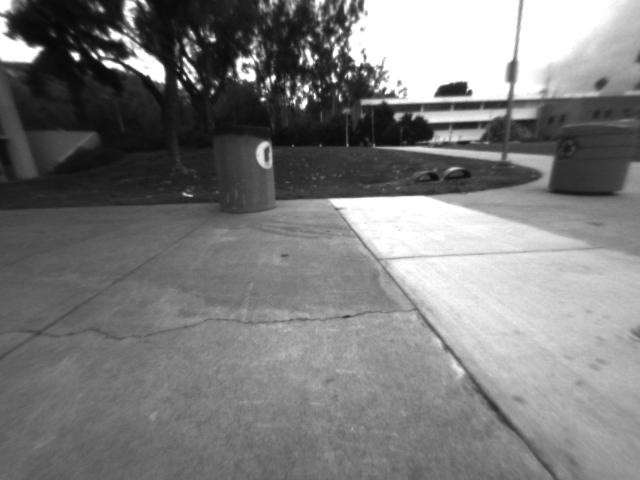trashcan: (551, 125, 636, 210), (216, 123, 283, 213)
